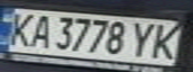3: (51, 14, 75, 52)
7: (87, 16, 112, 55), (69, 15, 93, 52)
8: (103, 18, 133, 56)
A: (24, 11, 57, 50)
K: (145, 21, 187, 61), (0, 10, 39, 47)
Y: (127, 19, 163, 58)
